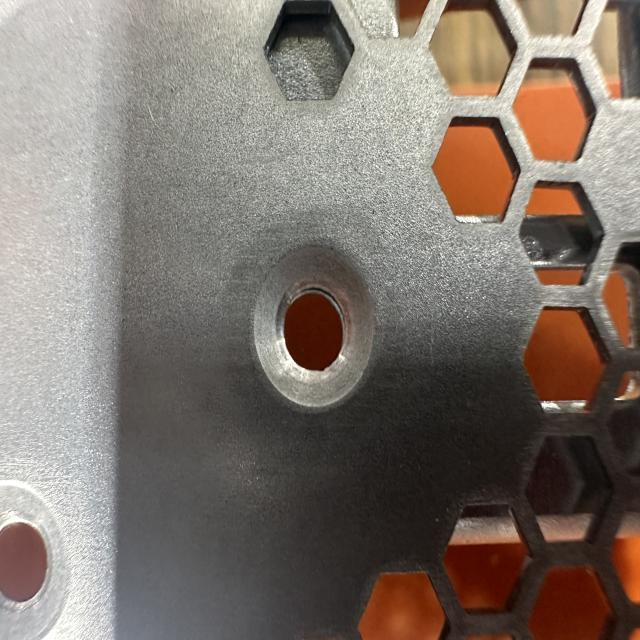Missing screw: (236, 230, 387, 426)
